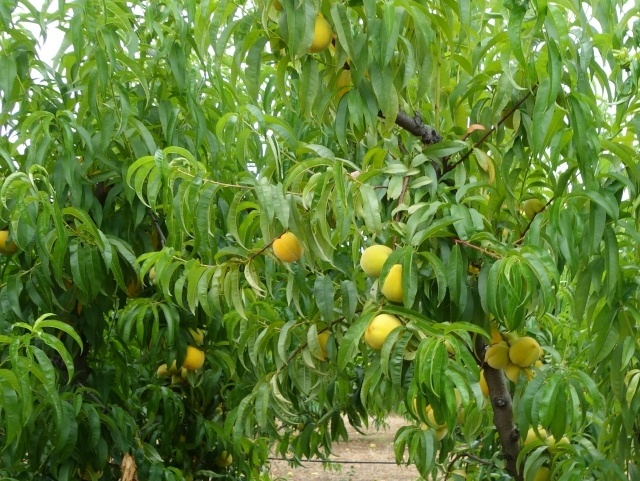peach: (299, 12, 337, 57), (356, 242, 398, 282), (365, 312, 405, 352), (376, 263, 411, 306), (267, 229, 304, 268), (505, 334, 542, 369), (308, 328, 336, 364), (482, 341, 513, 372), (178, 344, 208, 373), (521, 195, 549, 224), (545, 430, 573, 457), (502, 358, 530, 384), (1, 225, 22, 256), (215, 447, 235, 469)
